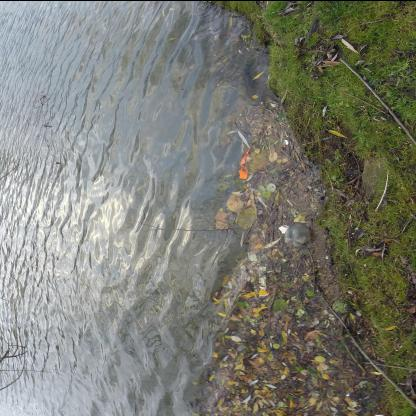plastik: (284, 221, 310, 245)
